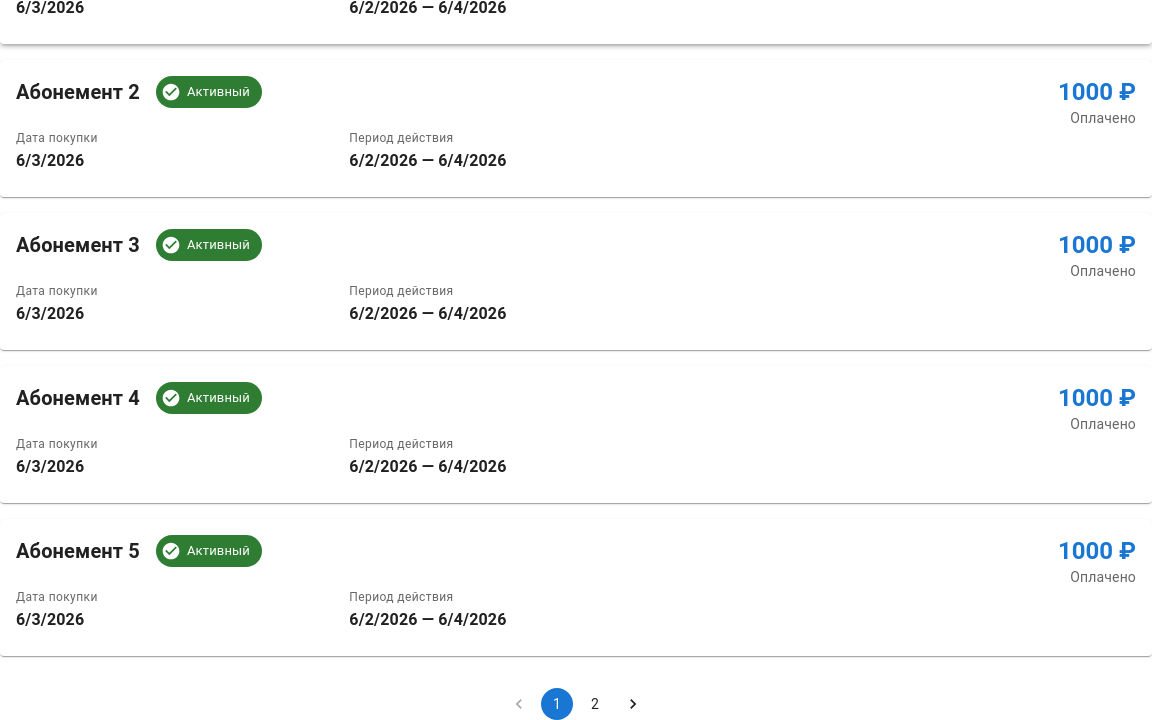
Scenario: MembershipHistory › переключает страницу пагинации
(page scrolled)
Click the button named "Go to page 2".
click(595, 704)  # box [579,688,611,719]
(page scrolled)
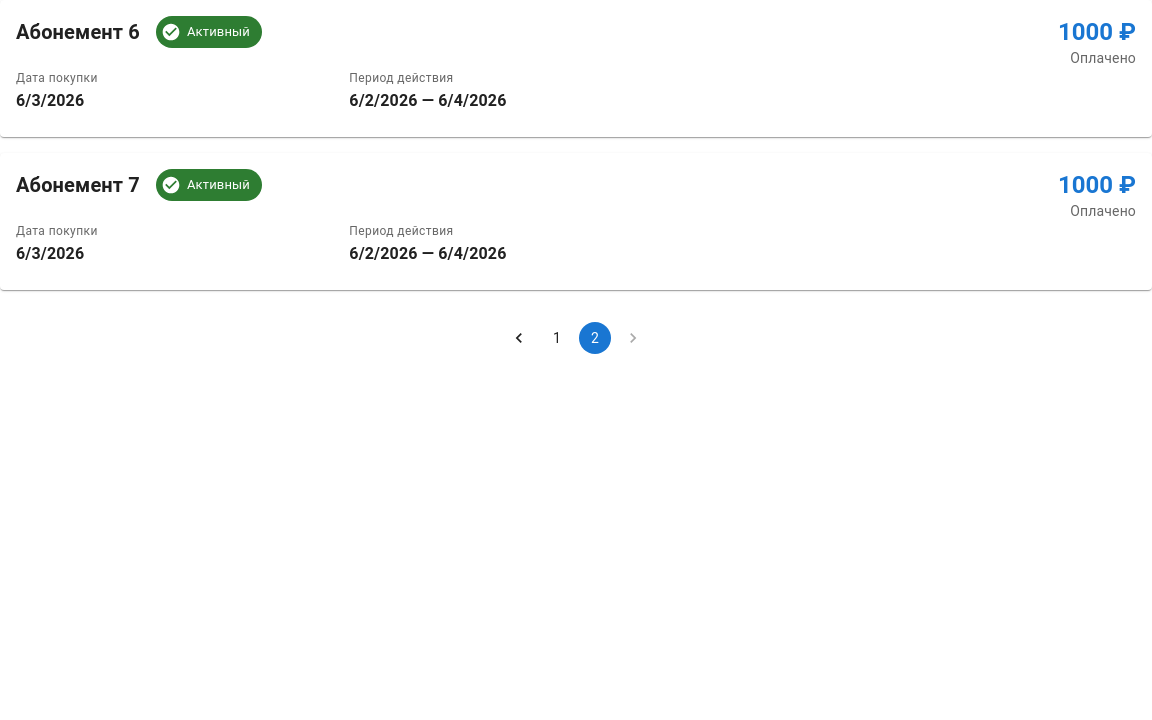
Now the heading "Абонемент 6" is shown, box [16,16,140,48]
Now the heading "Абонемент 7" is shown, box [16,169,140,201]
